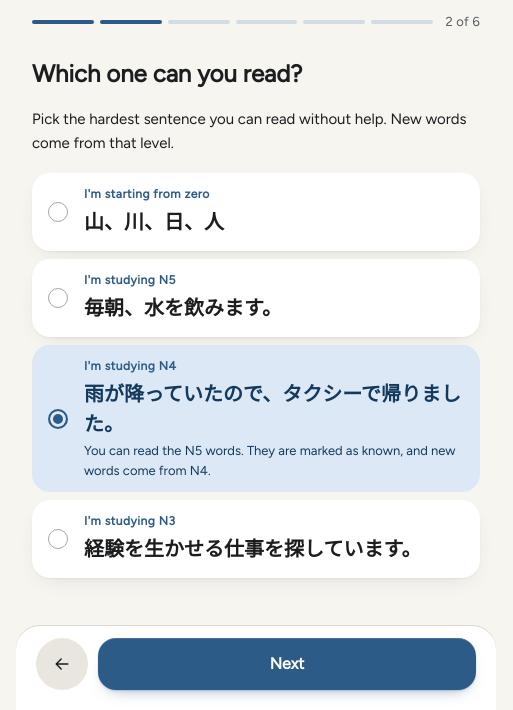
welcome wizard (P5) › shows the kana note under "starting from zero" (P8)
Expected: the text "expects you to read hiragana" is not shown
Click the radio button labelled "I'm starting from zero 山、川、日、人". click: x=58, y=212
box: [48,202,68,222]
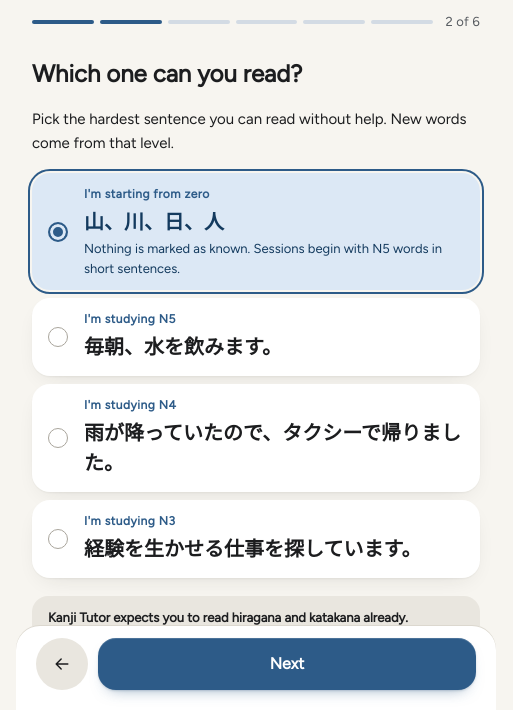
Result: the text "expects you to read hiragana and katakana" is shown at [48,610,408,625]
